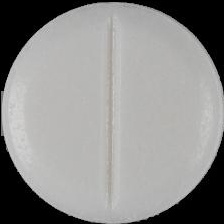0463-6155: (0, 0, 224, 224)
